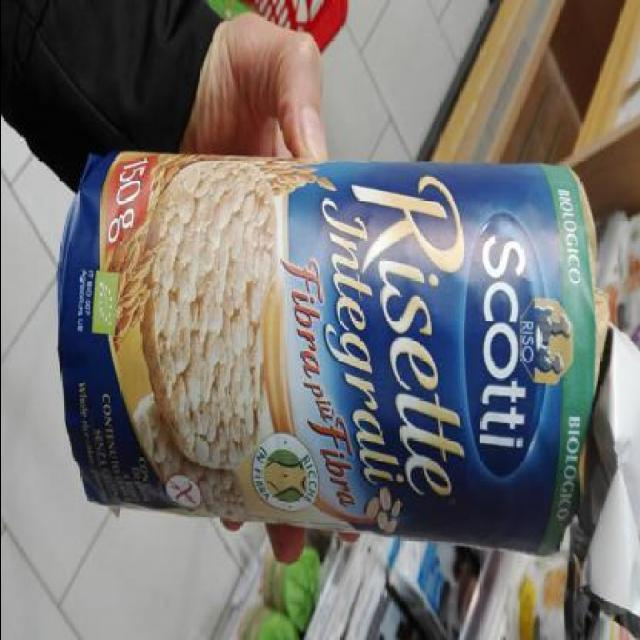Gallette di riso: (46, 121, 622, 599)
